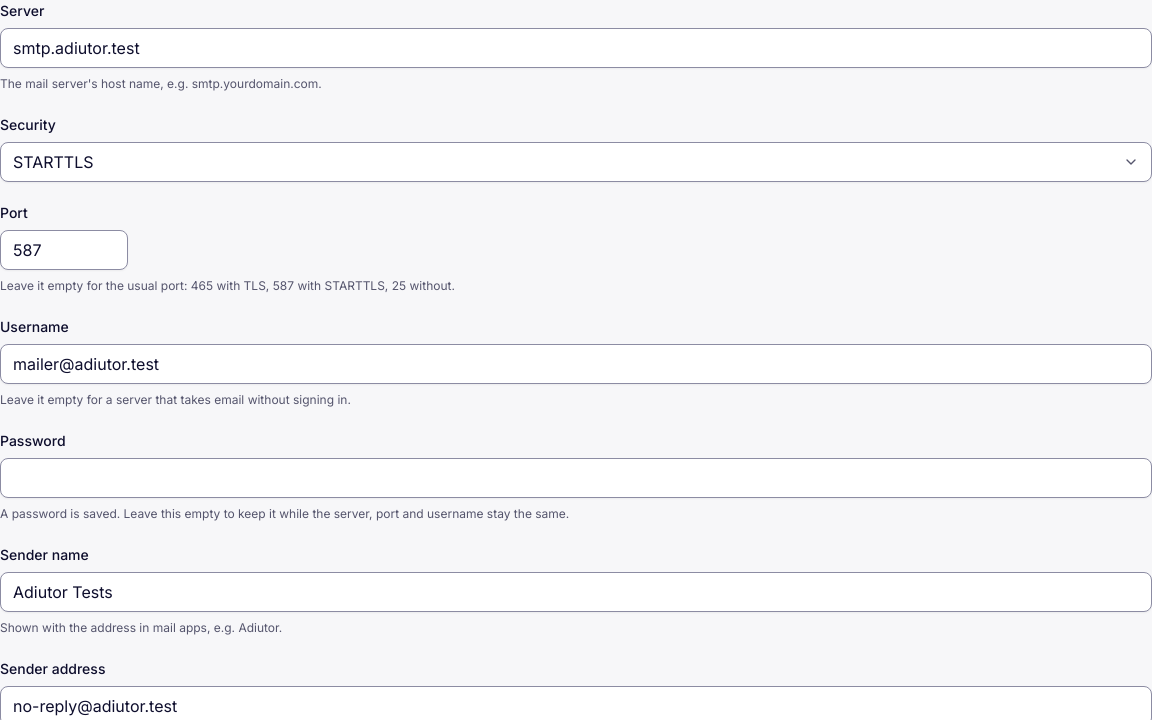
it: MailServerForm › sends what was typed, and empties the password once it’s saved
This screenshot has width=1152, height=720.
In the password field labelled "Password": (576, 478) [0,458,1151,498], type "a-new-password"
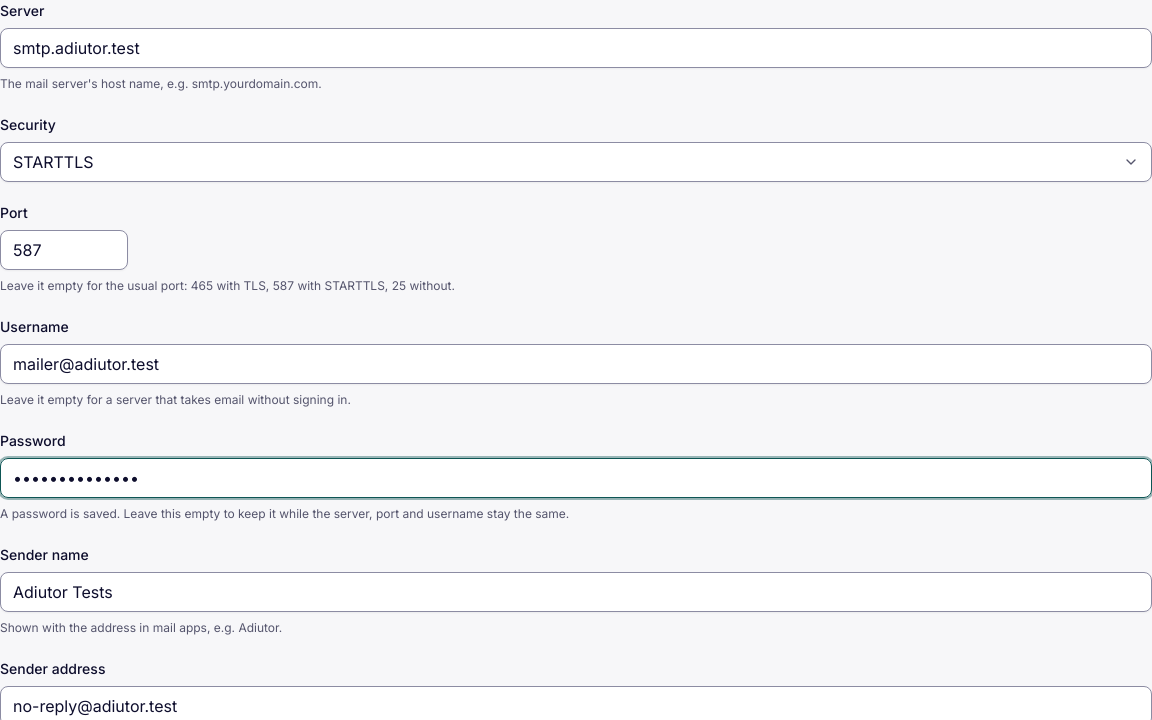
Click the dropdown named "Security": (53, 162) [0,142,1151,182]
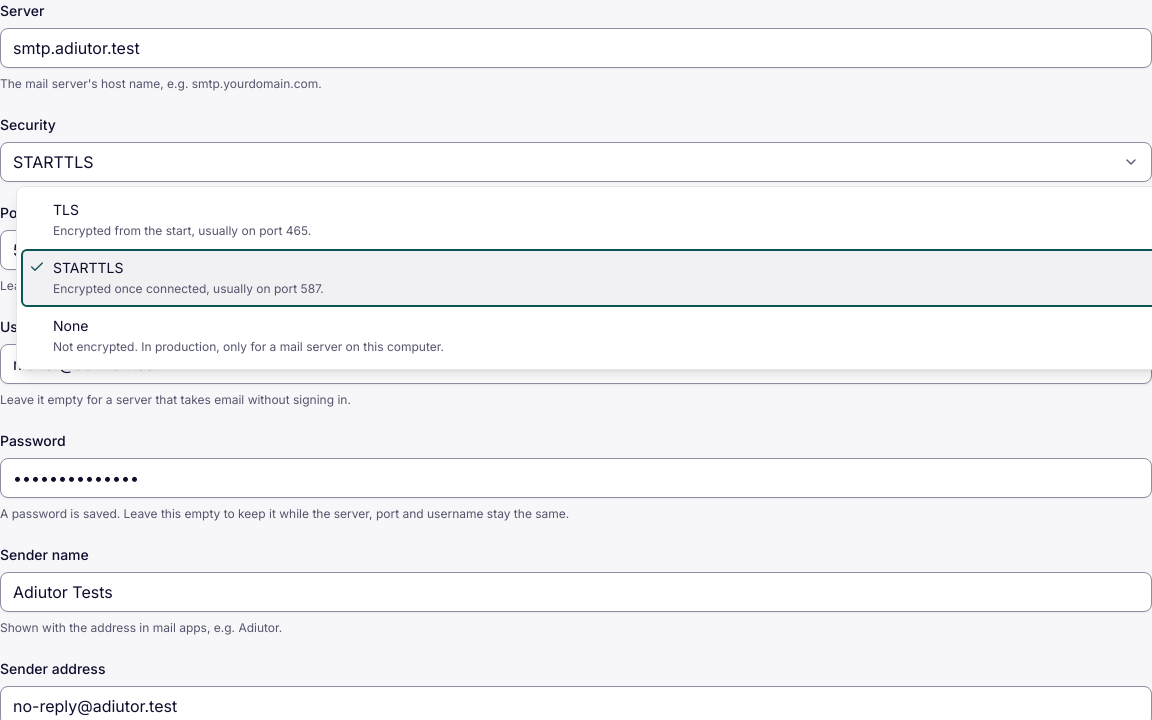
Click the option "TLS Encrypted from the start, usually on port 465.": (182, 230) [53,201,311,238]
(page scrolled)
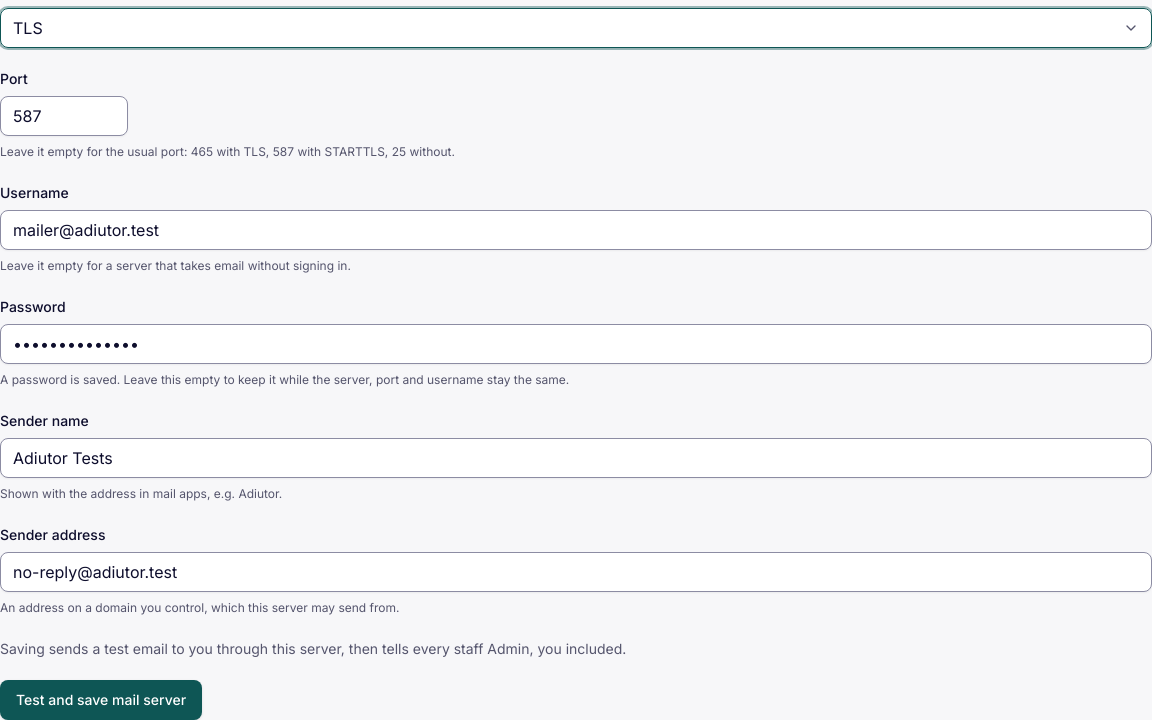
Click the button "Test and save mail server": (101, 700) [0,680,202,719]
(page scrolled)
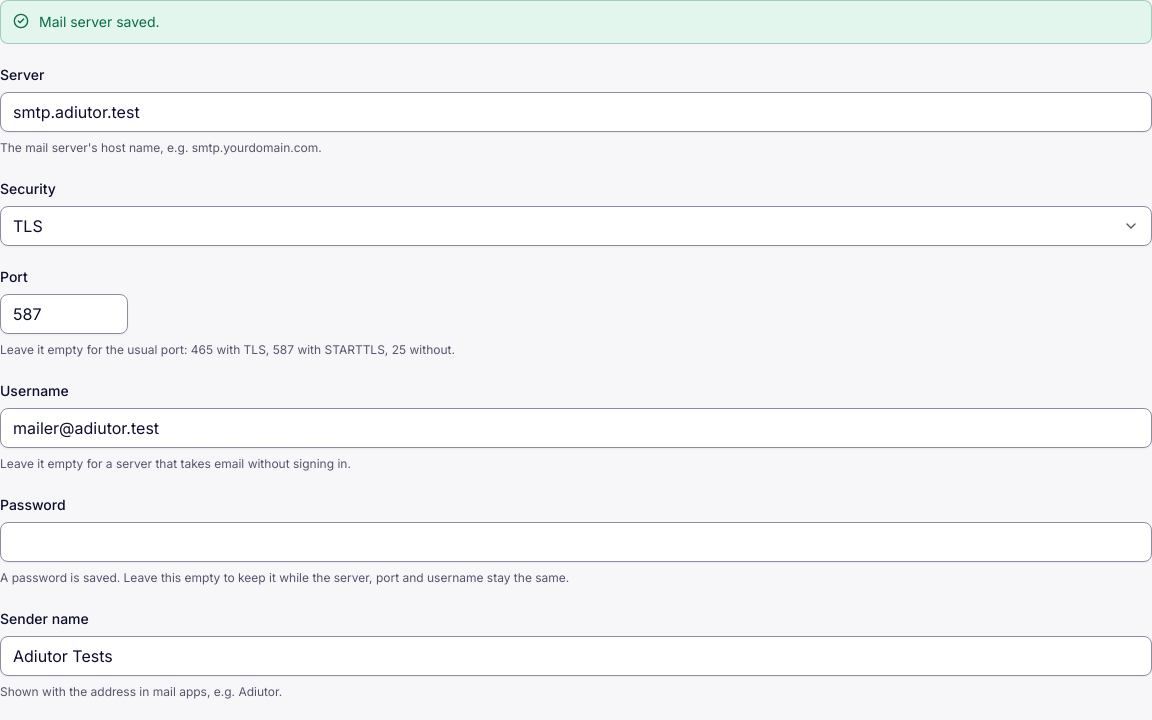
Check: the field labelled "Server" holds "smtp.adiutor.test", box [0,92,1151,132]
Check: the text "Mail server saved." is shown, box [39,13,160,30]
Check: the password field labelled "Password" is empty, box [0,522,1151,562]
